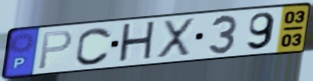3: (206, 13, 240, 56)
9: (245, 11, 277, 51)
C: (73, 26, 114, 67)
H: (116, 20, 157, 66)
P: (36, 29, 75, 71)
X: (155, 17, 197, 60)
